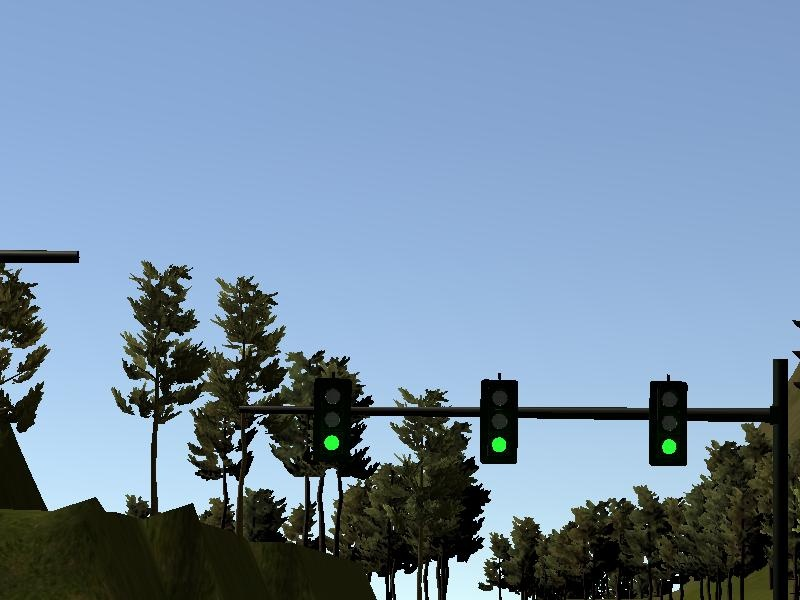GREEN: (480, 379, 519, 465), (648, 381, 687, 466), (313, 375, 349, 462)
